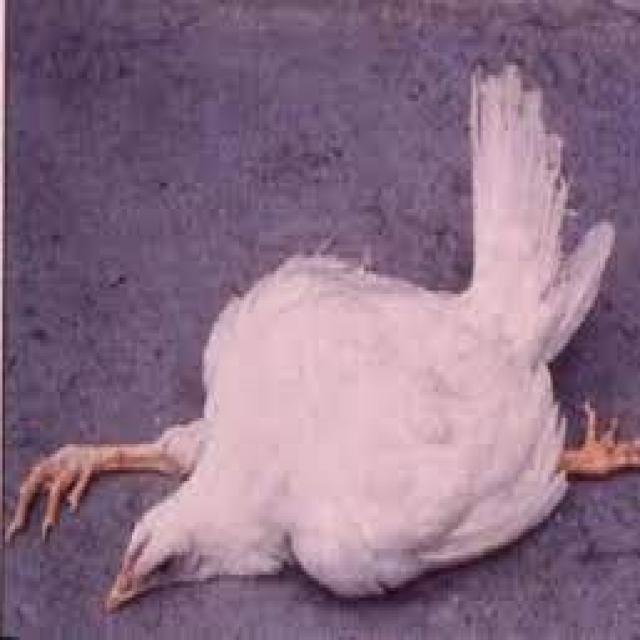AbNormal: (7, 69, 638, 616)
